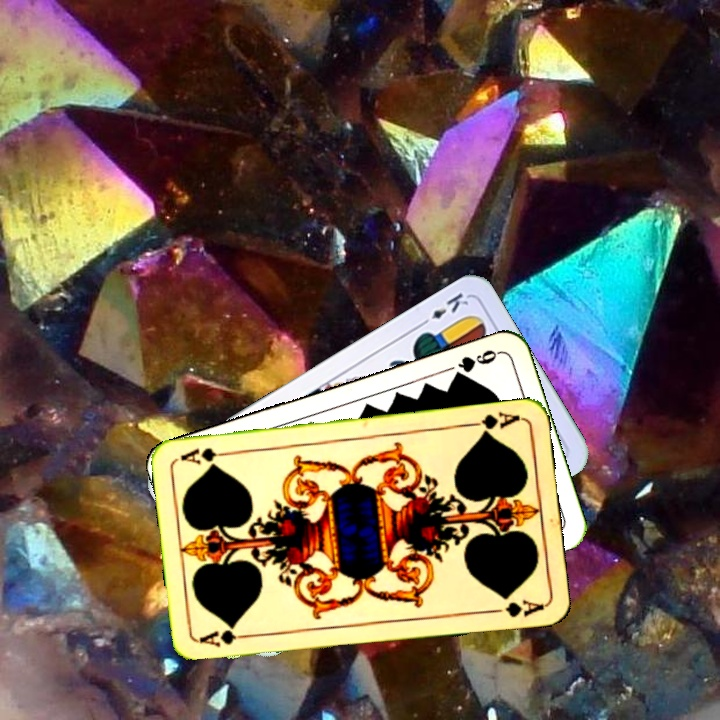EK: (415, 288, 471, 329)
G9: (449, 345, 503, 383)
GA: (464, 408, 523, 438), (196, 626, 255, 650)
